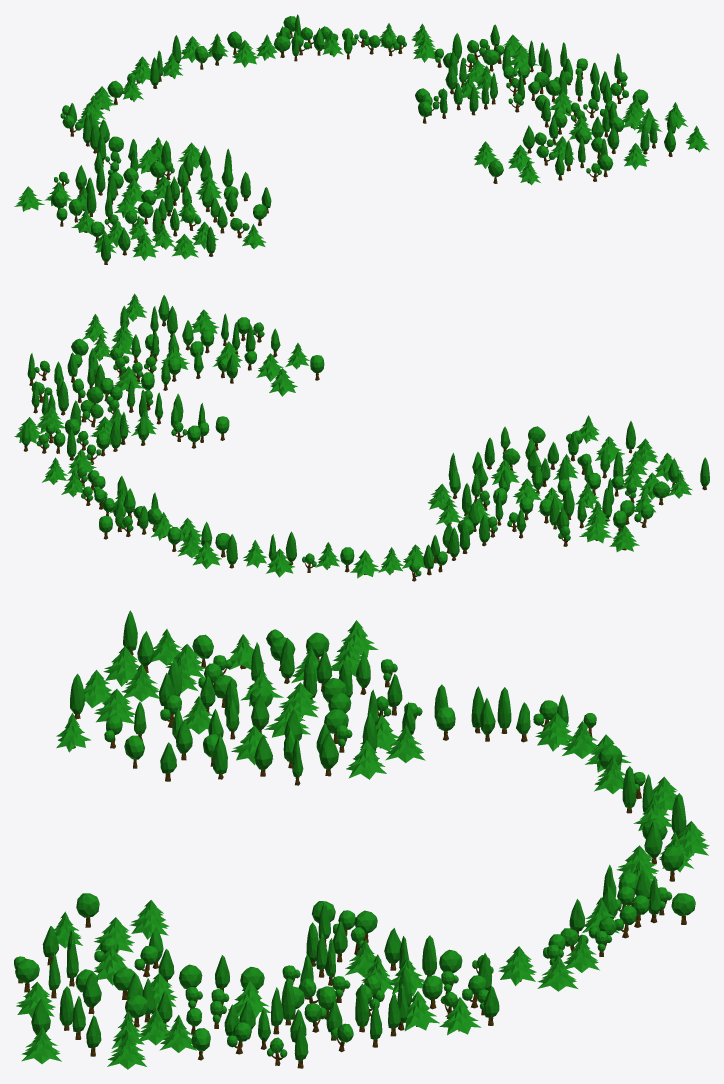
File: env_1st_2_flat_trees.FBX
3 views of the same model, one above another, from view 1: azimuth 30°, elevation 25°; view 2: azimuth 150°, elevation 25°; view 3: azimuth 270°, elevation 25° (orthographic). The views are drawn at different scales.
Parts seen in each view (by area): view 1: no part large enough to name; view 2: no part large enough to name; view 3: tree_h_007, tree_h_005, tree_h_010, tree_h_019, tree_h_022, tree_h_021, tree_i_004, tree_i_007, tree_i_014, tree_h_026, tree_i_022, tree_i_016 (+1 smaller).
Part boxes in pixels (bbox=[...]): tree_h_007: bbox=[498, 946, 536, 985]; tree_h_005: bbox=[129, 900, 169, 939]; tree_h_010: bbox=[346, 740, 386, 779]; tree_h_019: bbox=[535, 712, 572, 751]; tree_h_022: bbox=[103, 646, 139, 686]; tree_h_021: bbox=[94, 689, 134, 723]; tree_i_004: bbox=[107, 1031, 146, 1069]; tree_i_007: bbox=[21, 1026, 61, 1063]; tree_i_014: bbox=[385, 724, 425, 762]; tree_h_026: bbox=[439, 997, 481, 1035]; tree_i_022: bbox=[537, 954, 577, 991]; tree_i_016: bbox=[121, 664, 159, 701].
Bounding box in the file's own units: 3894 × 202 × 2674.
